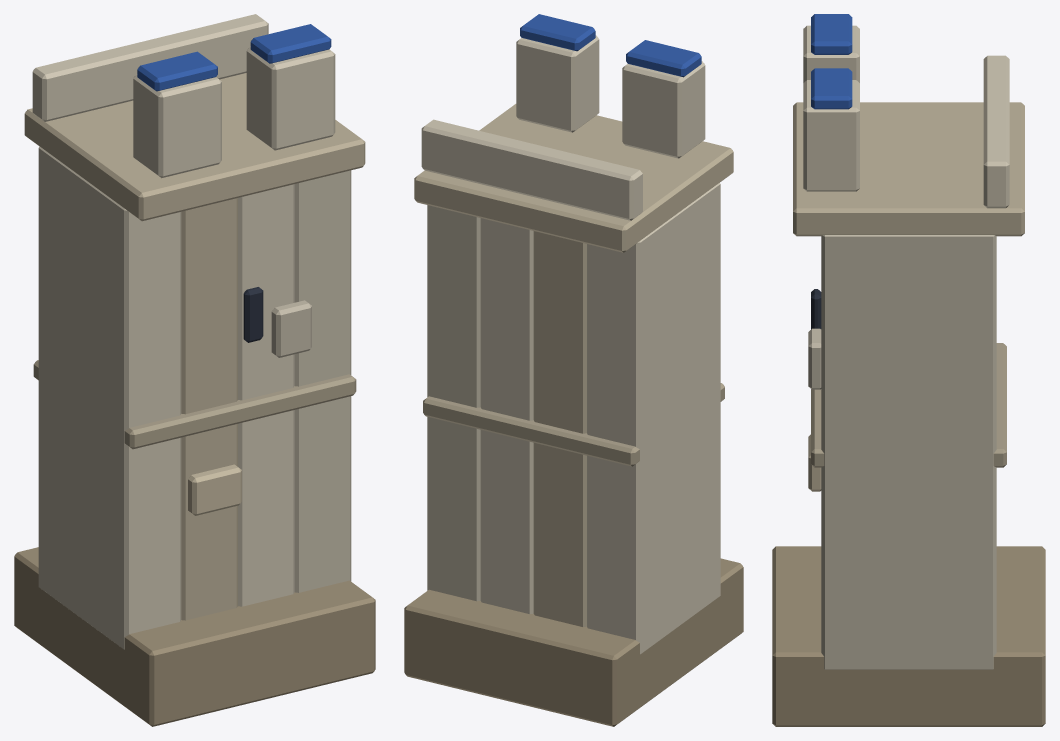
File: european-wall.glb
3 renders of one model, left to right at view 1: azimuth 30°, elevation 25°; view 2: azimuth 150°, elevation 25°; view 3: azimuth 270°, elevation 25°, orthographic. The views are drawn at different scales.
Parts seen in each view (by area): view 1: body; view 2: body; view 3: body.
Part boxes in pixels (box(x1,y1,x2,y2)): body: box(14, 14, 375, 726); body: box(404, 14, 743, 726); body: box(772, 14, 1045, 726).
Size of the model in its own units: 1 by 2.65 by 1.06.
